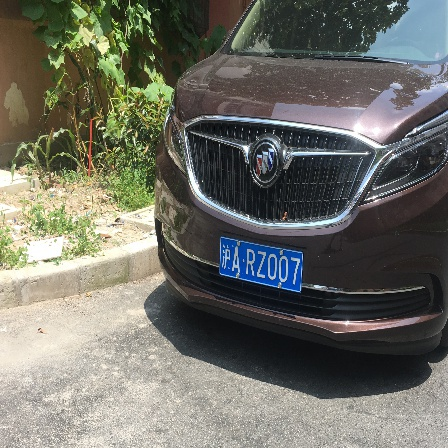plate: (211, 231, 310, 297)
